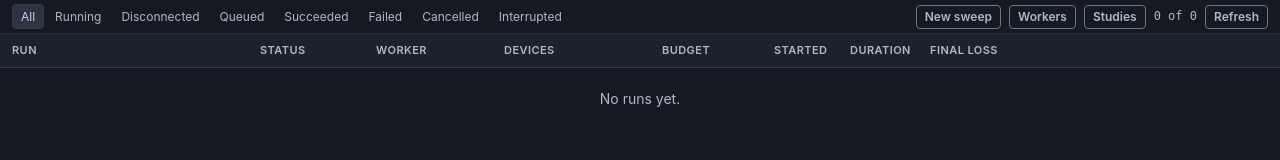
RunsPanel — the table › shows the empty state, and a different one once a filter is on
Expected: the text "No runs yet." is shown, [600,90,680,107]
Step 1. Click the button "Failed" → (385, 16), box [360,4,411,29]
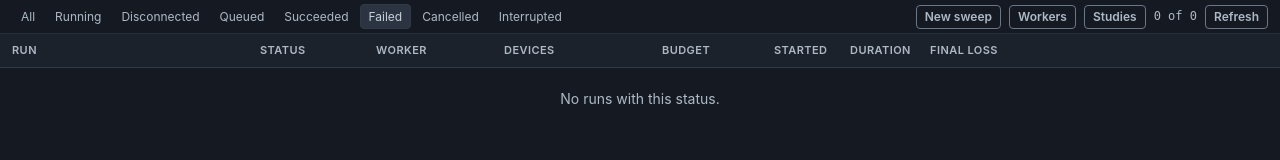
Now the text "No runs with this status." is shown, box [560,90,720,107]
